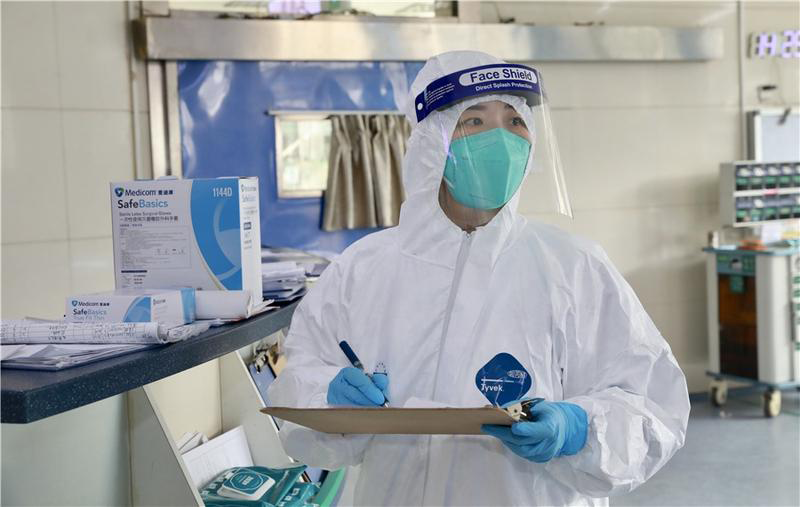Coverall: (276, 50, 689, 502)
Face_Shield: (414, 65, 579, 220)
Gloves: (483, 393, 588, 463), (324, 368, 391, 407)
with_mask: (446, 117, 530, 209)
